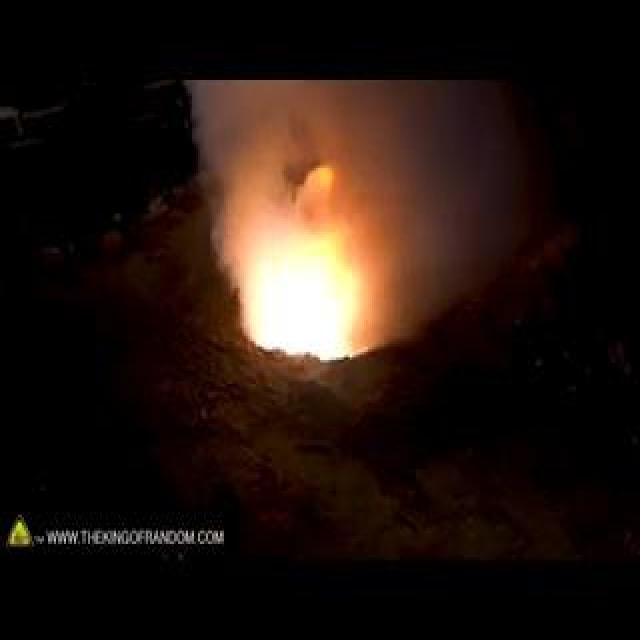Fire: (140, 154, 287, 318)
